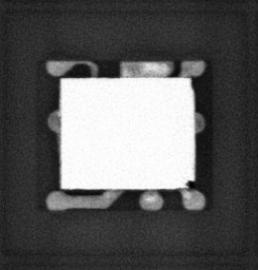DIE_BROKEN: (183, 178, 195, 190), (189, 75, 196, 90)
